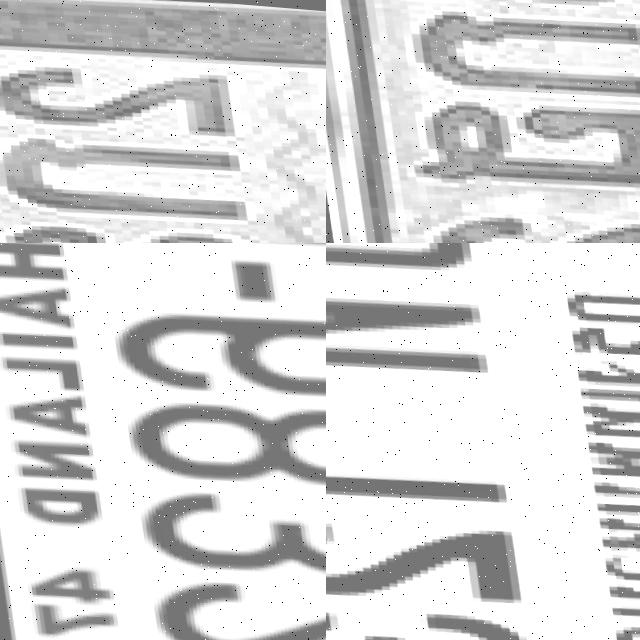license-plate: (0, 243, 326, 640), (326, 243, 640, 640), (0, 0, 326, 243), (326, 0, 640, 243)
